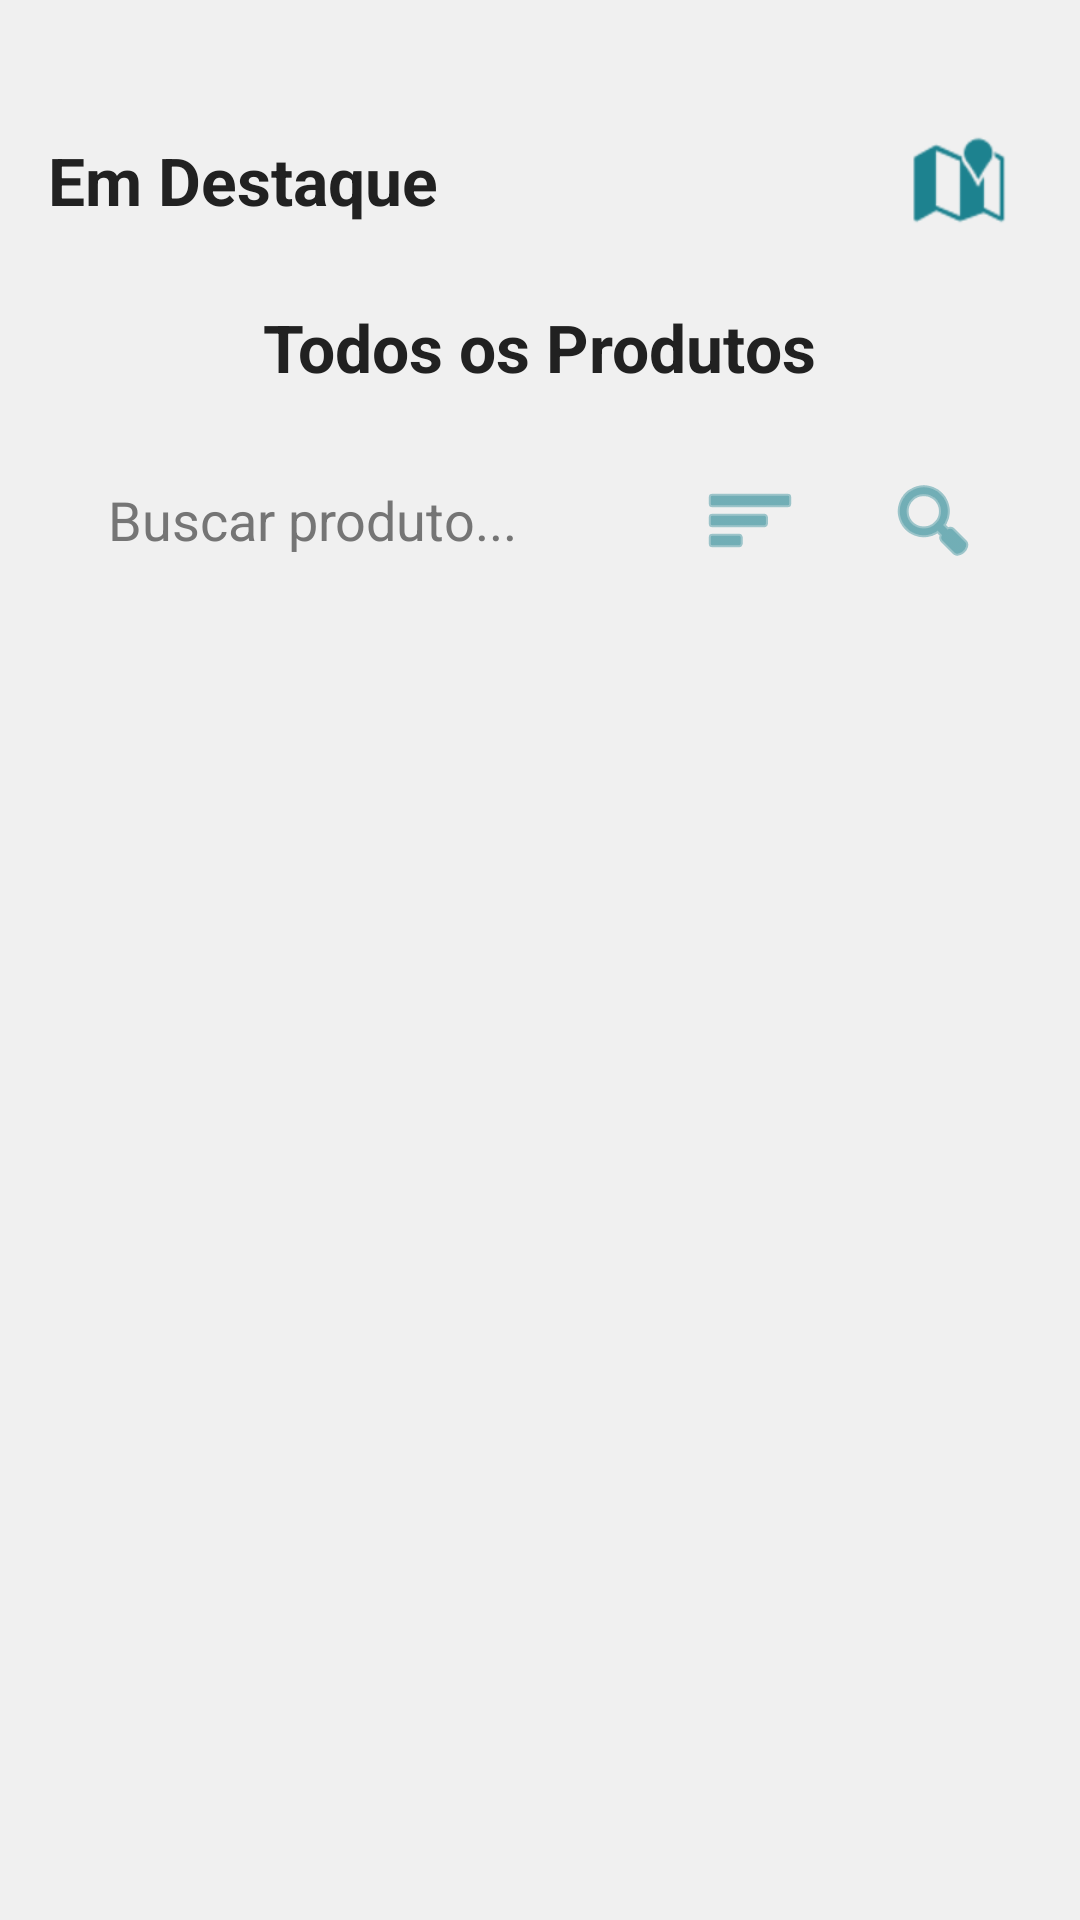

Icons on this 1080*1920 Android screen, each with the point to tap as (x,y):
Buscar: (933,520)
Filtrar: (750,520)
Ver Mapa da Loja: (959,180)
